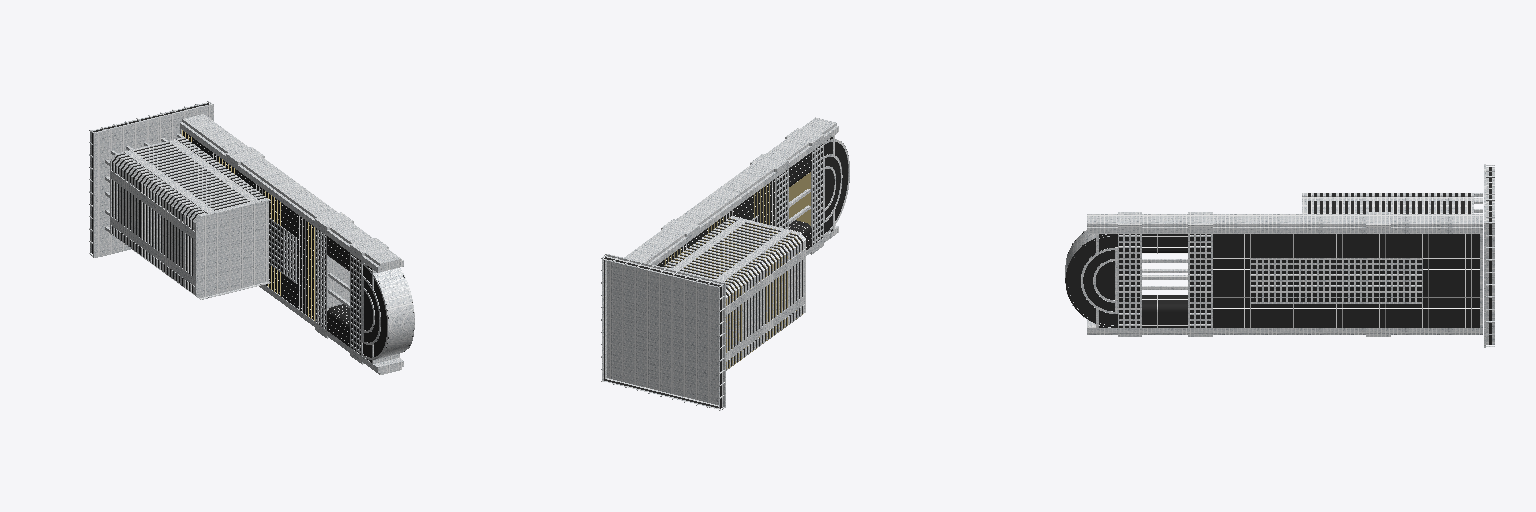
3 renders of one model, left to right at view 1: azimuth 30°, elevation 25°; view 2: azimuth 150°, elevation 25°; view 3: azimuth 270°, elevation 25°, orthographic.
Parts seen in each view (by area): view 1: Wall_20, Wall_01, Glass_03, Glass_01, Wall_06, Wall_04, Wall_02, Wall_05, Glass_06, Glass_02, Wall_07, Wall_10 (+2 smaller); view 2: Wall_20, Wall_01, Glass_01, Wall_06, Slab_01, Wall_04, Wall_02, Glass_03, Glass_06, Wall_05, Wall_07, Wall_10 (+5 smaller); view 3: Glass_03, Wall_06, Wall_04, Glass_06, Wall_11, Wall_05, Glass_02, Wall_01, Wall_07, Wall_12, Frame_01, Glass_01 (+4 smaller).
Part boxes in pixels (bbox=[...]): Wall_20: bbox=[94, 104, 414, 374]; Wall_01: bbox=[110, 129, 269, 299]; Glass_03: bbox=[183, 131, 325, 328]; Glass_01: bbox=[112, 139, 265, 292]; Wall_06: bbox=[238, 157, 337, 326]; Wall_04: bbox=[226, 147, 387, 363]; Wall_02: bbox=[110, 140, 257, 284]; Wall_05: bbox=[180, 114, 249, 161]; Glass_06: bbox=[363, 265, 413, 362]; Glass_02: bbox=[327, 236, 349, 346]; Wall_07: bbox=[327, 222, 373, 352]; Wall_10: bbox=[315, 228, 362, 355]; Wall_20: bbox=[605, 137, 849, 407]; Wall_01: bbox=[664, 216, 805, 370]; Glass_01: bbox=[664, 219, 802, 367]; Wall_06: bbox=[676, 164, 776, 232]; Slab_01: bbox=[664, 172, 810, 368]; Wall_04: bbox=[662, 128, 823, 253]; Wall_02: bbox=[671, 219, 802, 361]; Glass_03: bbox=[657, 170, 786, 266]; Glass_06: bbox=[824, 137, 847, 233]; Wall_05: bbox=[624, 229, 686, 265]; Wall_07: bbox=[765, 138, 811, 255]; Wall_10: bbox=[776, 143, 823, 245]; Glass_03: bbox=[1190, 234, 1479, 327]; Wall_06: bbox=[1213, 214, 1365, 334]; Wall_04: bbox=[1118, 212, 1390, 336]; Glass_06: bbox=[1065, 232, 1117, 327]; Wall_11: bbox=[1250, 258, 1421, 303]; Wall_05: bbox=[1391, 214, 1482, 334]; Glass_02: bbox=[1142, 234, 1187, 327]; Wall_01: bbox=[1302, 193, 1482, 327]; Wall_07: bbox=[1142, 214, 1187, 334]; Wall_12: bbox=[1250, 258, 1422, 303]; Frame_01: bbox=[1142, 234, 1479, 327]; Glass_01: bbox=[1308, 193, 1470, 213].
Bounding box in the file's own units: 2700 × 2700 × 8388.
Materials: 4 (1 with a texture image).